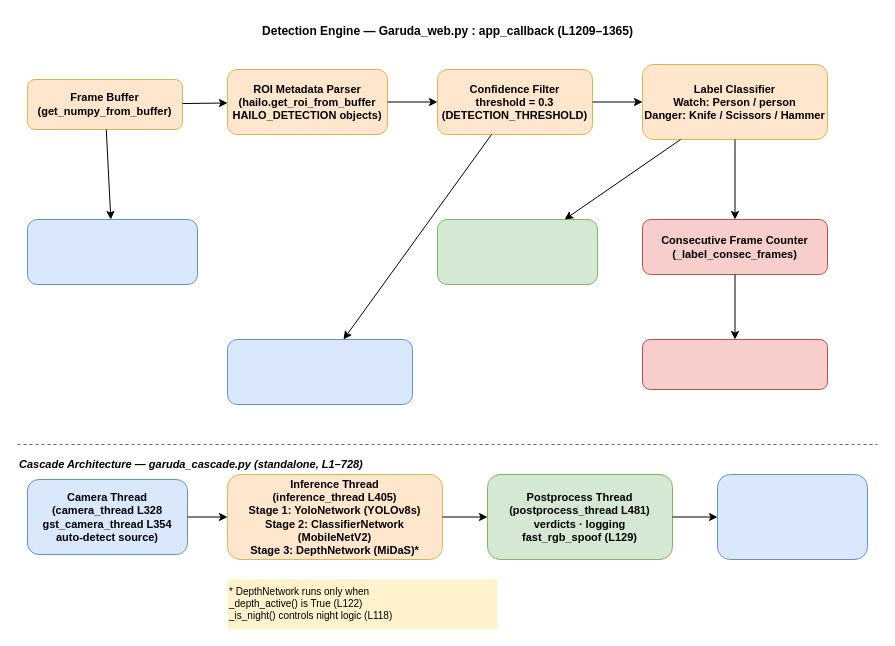
The diagram is 895 pixels wide and 646 high, and some of its shapes have lost their labels. The shapes that lost their labels are listed below. From the top down, each one's centre as x and y in pixels, then its label:
At point 112,251: "Frame Container (user_app_callback_class set_frame / get_frame)".
At point 517,251: "Watch Logger (30s cooldown per label → perm_detection_log)".
At point 319,371: "Frame & Class Counter (_class_counts_today _total_frames, _detections_today)".
At point 735,364: "Alert Trigger (trigger_software_alert)".
At point 792,517: "TestMetrics (L157) FPS · drops · verdicts status_line output".
